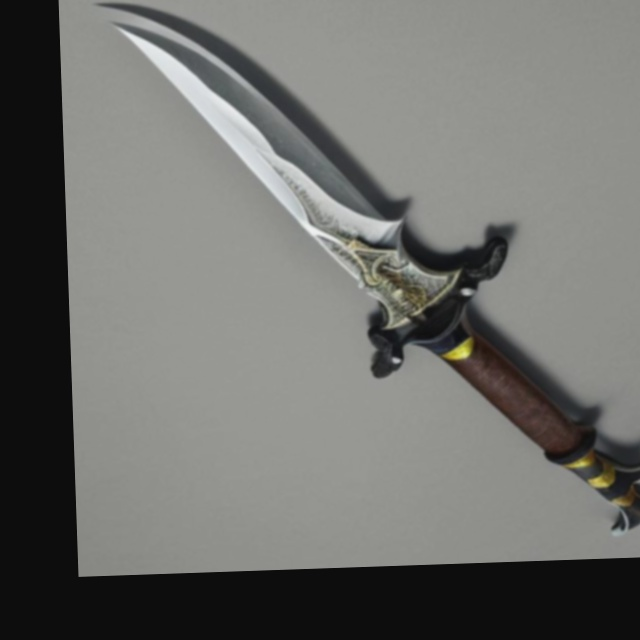Sharp-Object: (106, 0, 640, 558)
